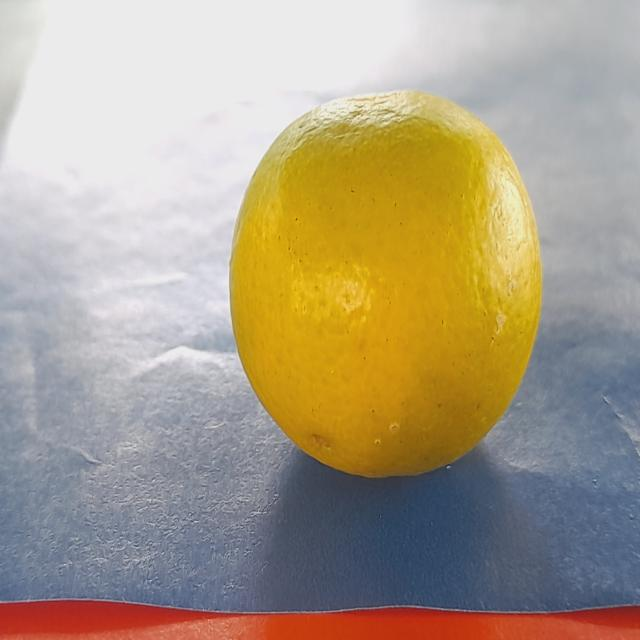greening: (230, 82, 552, 479)
